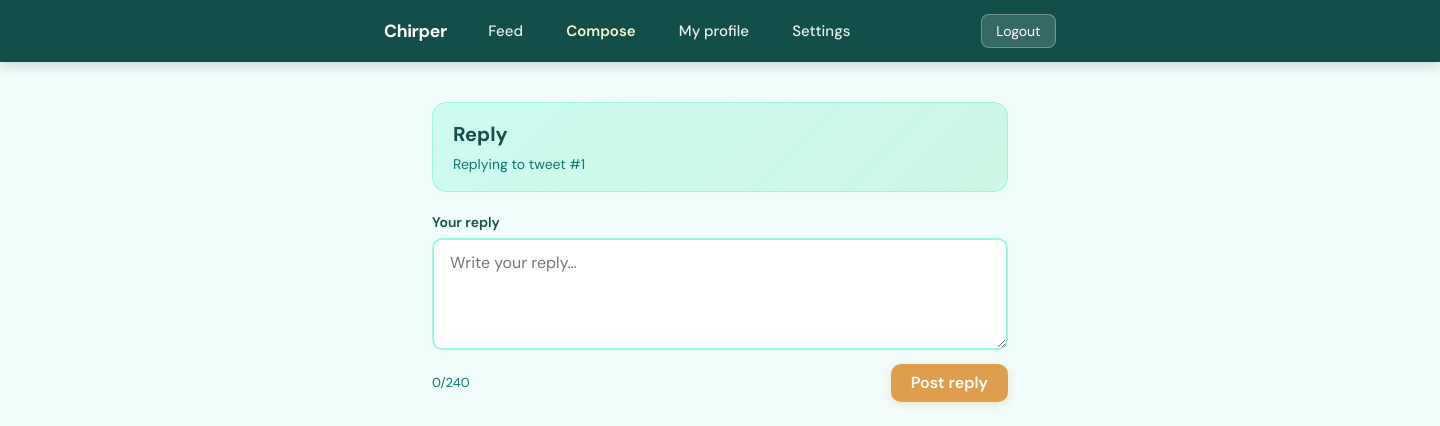
Scenario: Reply › posts reply with parent_tweet_id and redirects to replies
Check: the text "Replying to tweet #1" is shown, box [453,155,585,173]
Type "My reply" into the text box labelled "Your reply" at (720, 294), box [432,238,1008,350]
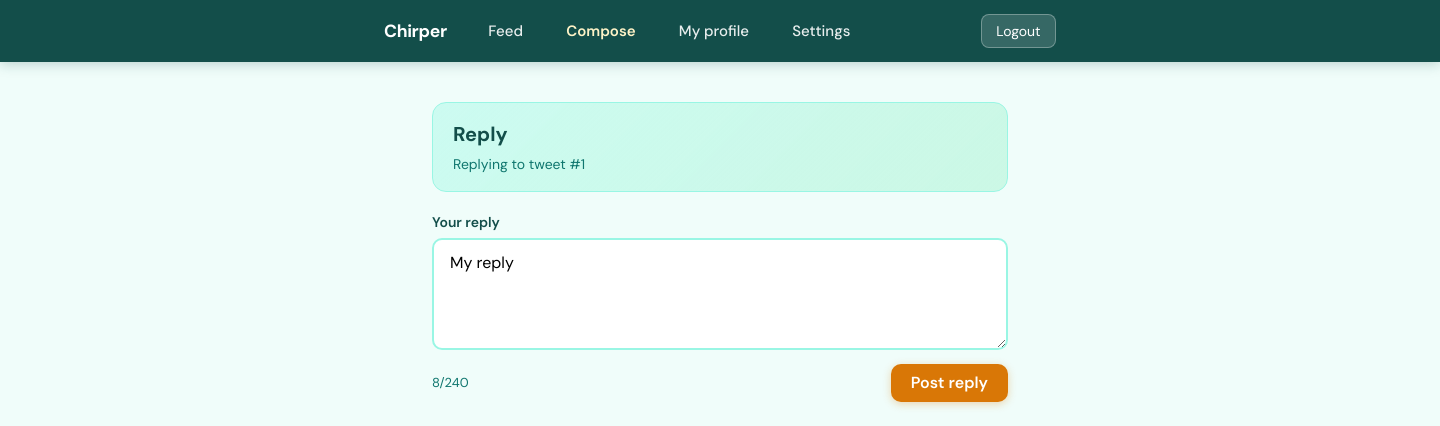
Click the button "Post reply" at (949, 383), box [891,364,1008,402]
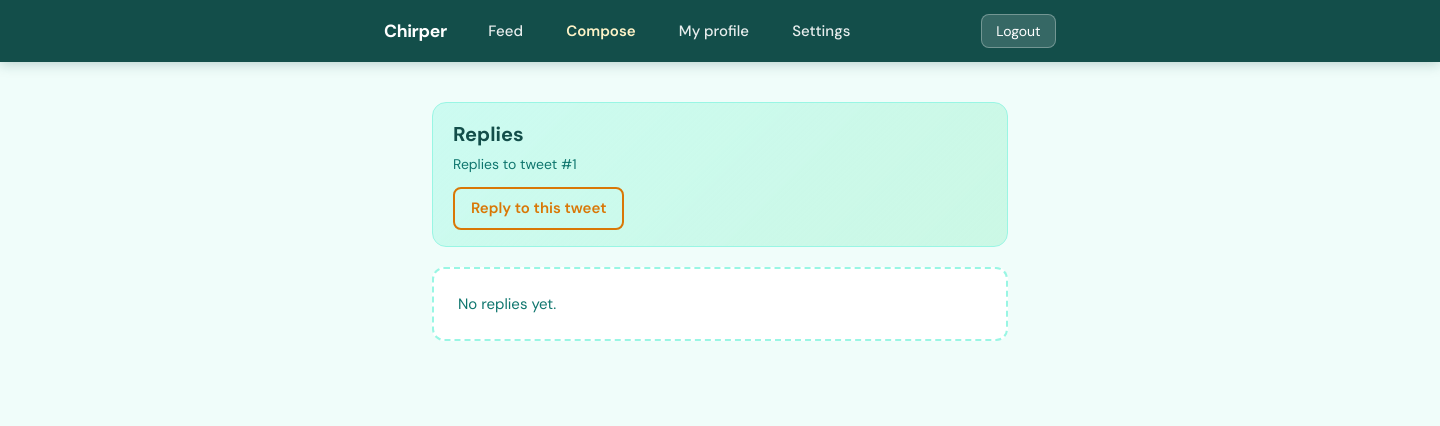
Check: the text "Replies to tweet #1" is shown, box [453,155,576,173]
